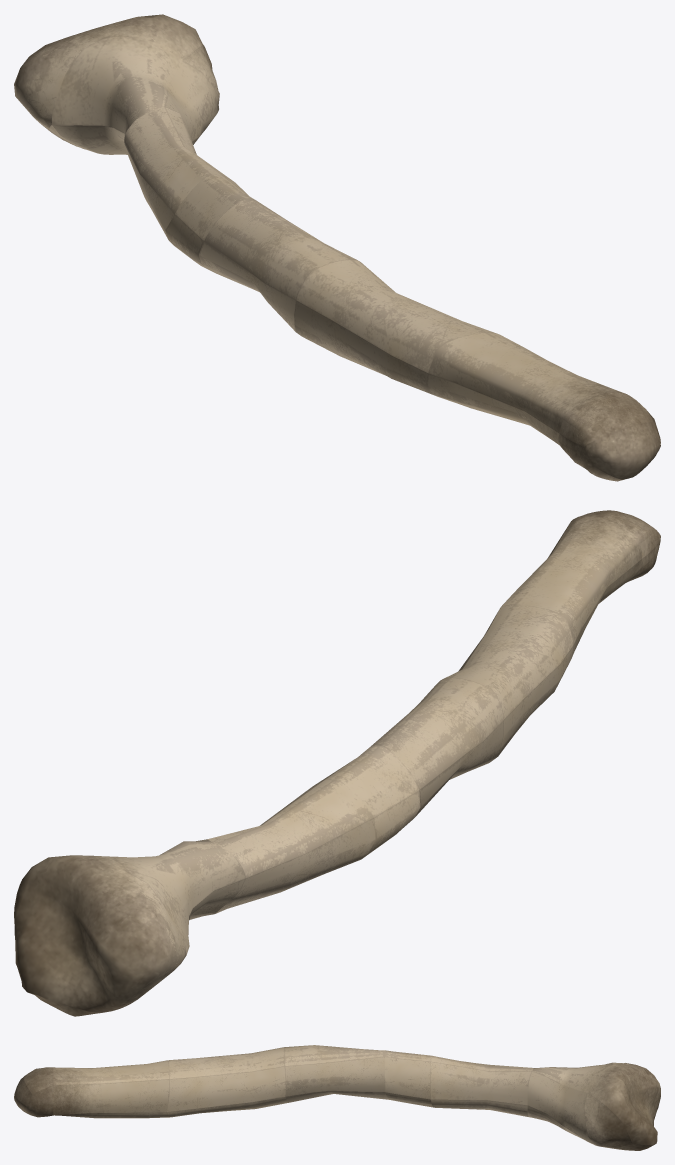
File: bone4.glb
3 renders of one model, top to bottom at view 1: azimuth 30°, elevation 25°; view 2: azimuth 150°, elevation 25°; view 3: azimuth 270°, elevation 25°, orthographic. The views are drawn at different scales.
Parts seen in each view (by area): view 1: polySurface5_lambert10_0; view 2: polySurface5_lambert10_0; view 3: polySurface5_lambert10_0.
Part boxes in pixels (x1=…): polySurface5_lambert10_0: x1=14, y1=14, x2=660, y2=481; polySurface5_lambert10_0: x1=14, y1=510, x2=660, y2=1016; polySurface5_lambert10_0: x1=14, y1=1045, x2=660, y2=1150.
Size of the model in its own units: 0.0518 by 0.0333 by 0.2494.
Materials: 1 (1 with a texture image).
